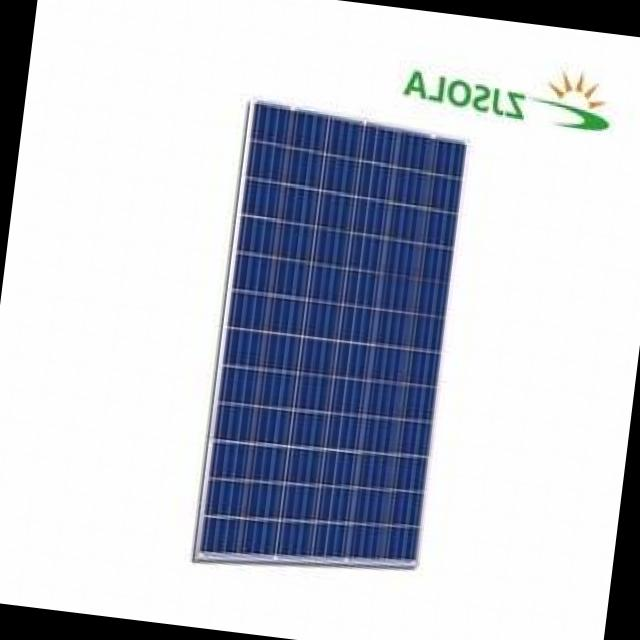no faulty: (209, 108, 464, 555)
